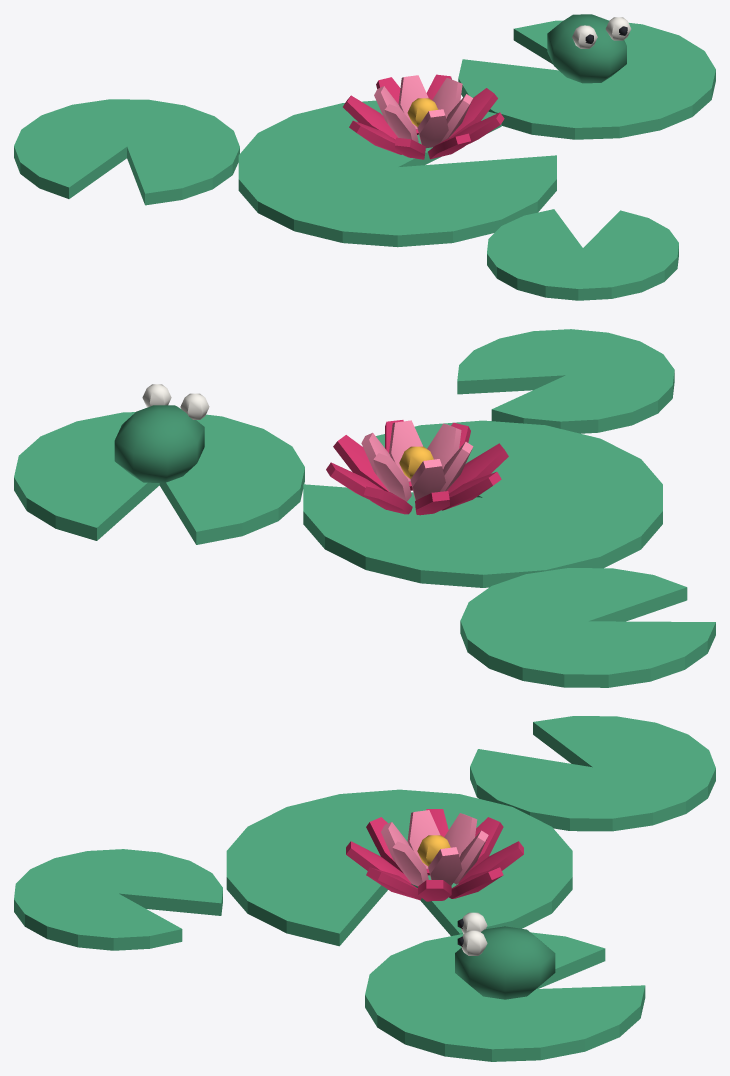
The model's file is W3_Lilypad_B.fbx.
3 views of the same model, one above another, from view 1: azimuth 30°, elevation 25°; view 2: azimuth 150°, elevation 25°; view 3: azimuth 270°, elevation 25° (orthographic). The views are drawn at different scales.
Parts seen in each view (by area): view 1: W3_Lilypad_B; view 2: W3_Lilypad_B; view 3: W3_Lilypad_B.
Part boxes in pixels (left/top/right/bottom): W3_Lilypad_B: left=14, top=14, right=715, bottom=300; W3_Lilypad_B: left=14, top=329, right=715, bottom=687; W3_Lilypad_B: left=14, top=716, right=715, bottom=1061.
Bounding box in the file's own units: 4.49 × 0.51 × 4.
